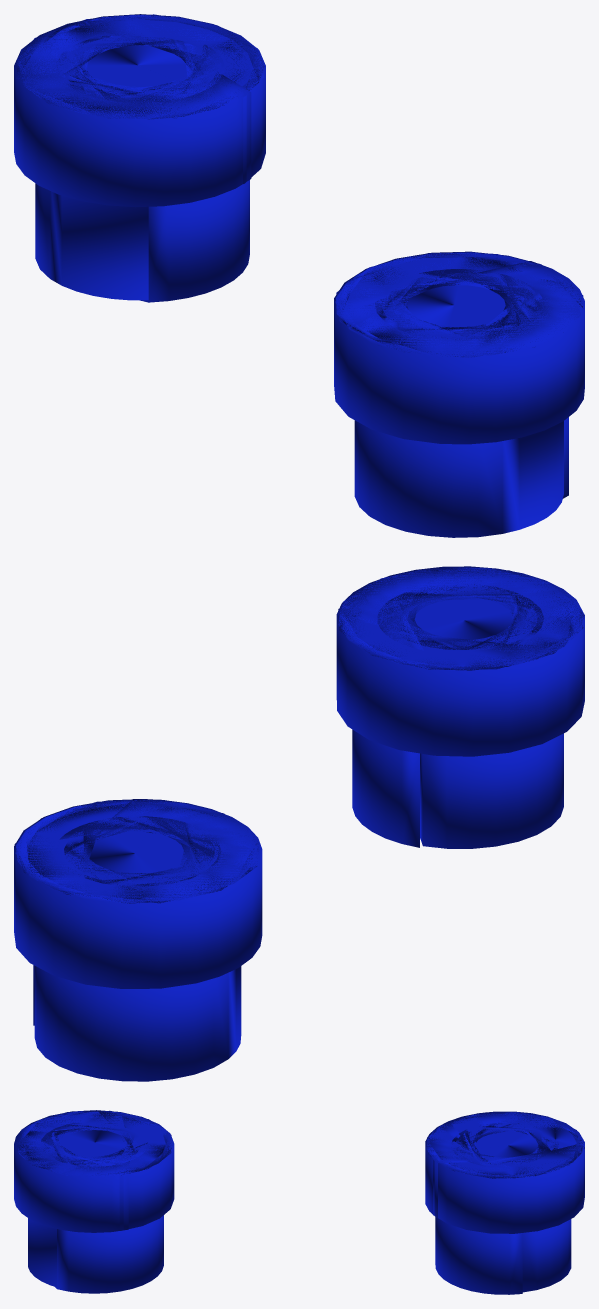
The model's file is tuyeau_element_000076.obj.
3 views of the same model, one above another, from view 1: azimuth 30°, elevation 25°; view 2: azimuth 150°, elevation 25°; view 3: azimuth 270°, elevation 25° (orthographic). The views are drawn at different scales.
Parts seen in each view (by area): view 1: tuyeau1_Cube.014, tuyeau2_Cube.017; view 2: tuyeau2_Cube.017, tuyeau1_Cube.014; view 3: tuyeau2_Cube.017, tuyeau1_Cube.014.
Boxes of the visible parts, x1=… form: tuyeau1_Cube.014: x1=14, y1=14, x2=265, y2=302; tuyeau2_Cube.017: x1=334, y1=251, x2=584, y2=537; tuyeau2_Cube.017: x1=336, y1=566, x2=584, y2=848; tuyeau1_Cube.014: x1=14, y1=799, x2=262, y2=1081; tuyeau2_Cube.017: x1=14, y1=1110, x2=174, y2=1293; tuyeau1_Cube.014: x1=425, y1=1111, x2=584, y2=1294.
Bounding box in the file's own units: 3578 × 2917 × 12561.
